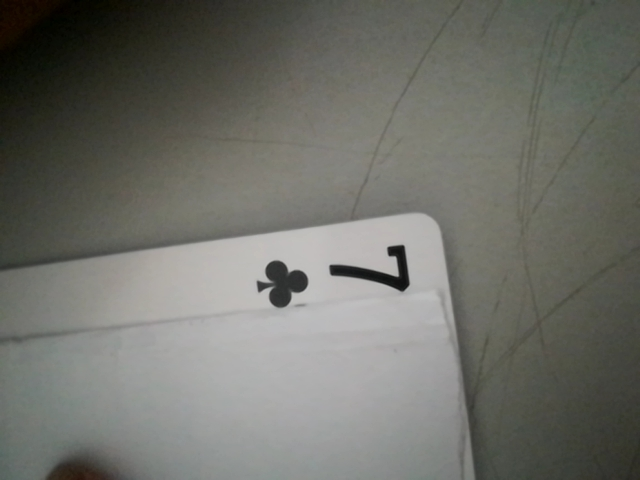mh 7: (235, 234, 428, 311)
